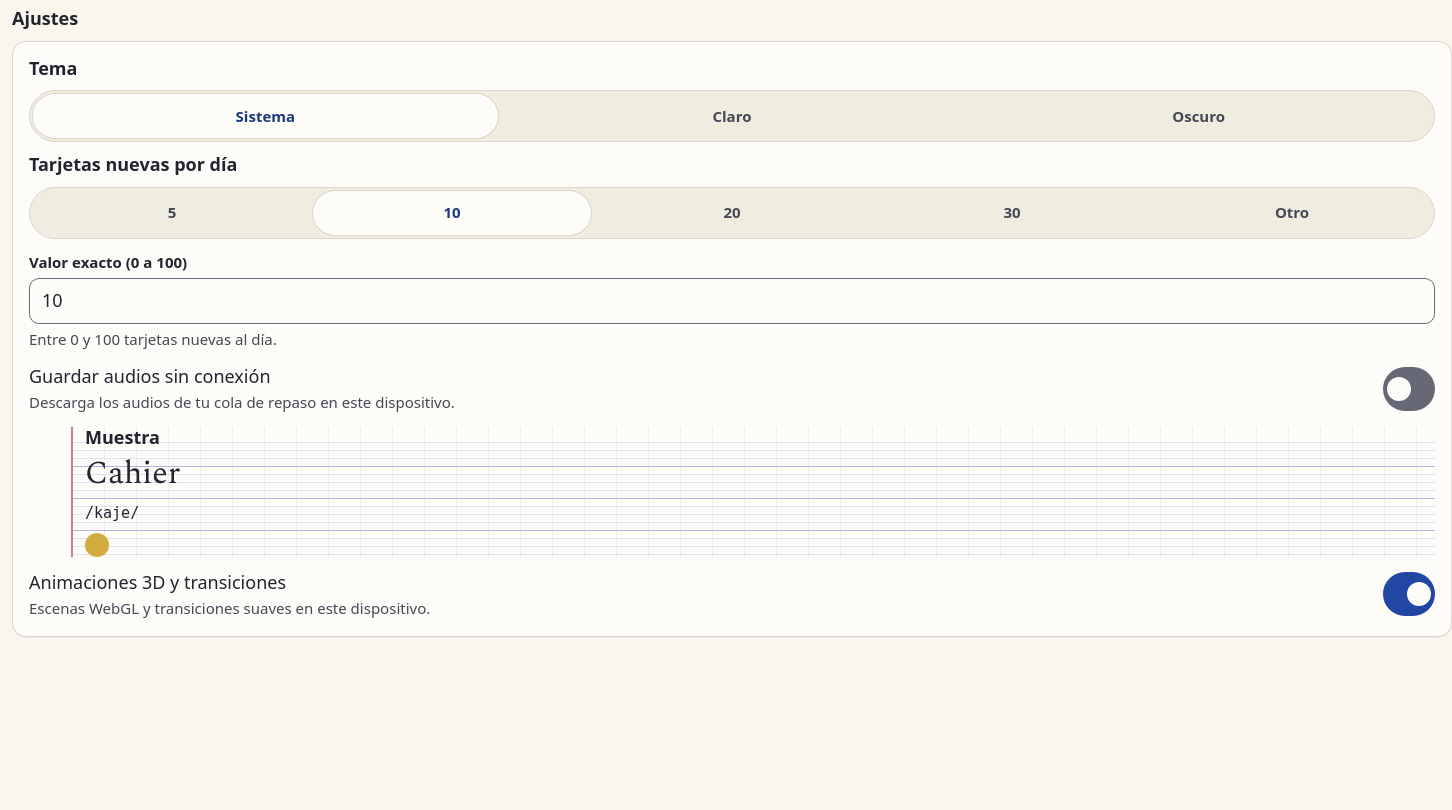
Test case: guardar audios sin conexión persiste el ajuste y precarga
Click the switch named "Guardar audios sin conexión" at coordinates (1409, 389), box top-left (1383, 367), bottom-right (1435, 411)
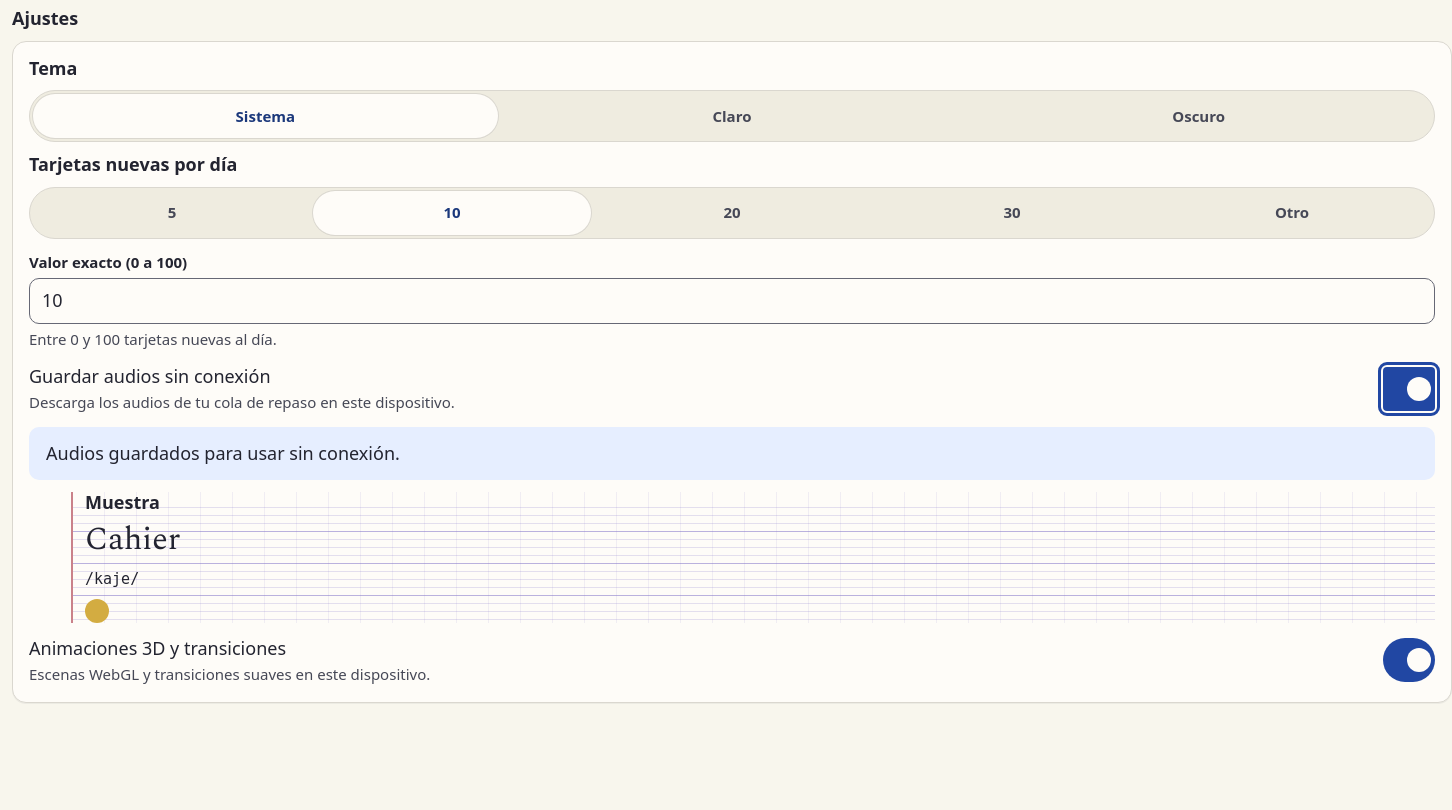
Result: the text "Audios guardados para usar sin conexión." is shown at top-left (29, 427), bottom-right (1435, 480)
